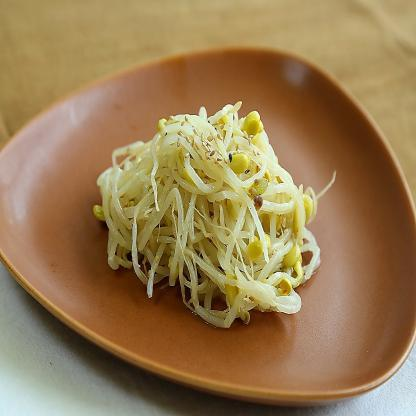bean sprouts: (118, 107, 331, 325)
